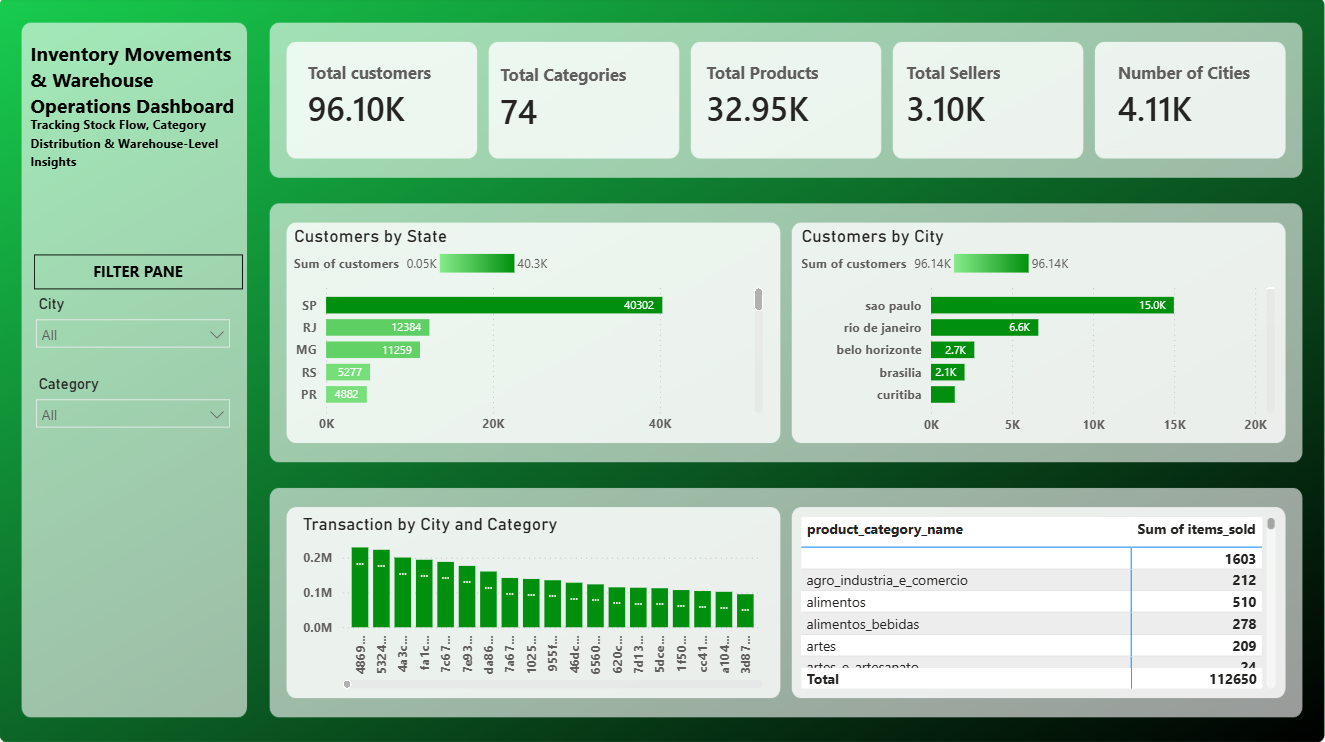

The page's visual inventory and layout, read from the dashboard file:
{"tool":"powerbi","page":{"name":"Page 2","canvas":[1280,720],"ordinal":1},"visuals":[{"type":"cardVisual","fields":{"Data":["Sum(vw_Number_customers.Number_customers)"]},"box":[269,37.4,209.8,114.1],"z":0},{"type":"cardVisual","fields":{"Data":["Sum(vw_productsbycategory.product_count)"]},"box":[653.9,37.4,209.8,114.1],"z":1000},{"type":"cardVisual","fields":{"Data":["Sum(vw_sellersbystate.sellers)"]},"box":[846.9,37.4,209.8,114.1],"z":2000},{"type":"cardVisual","fields":{"Data":["vw_cityssales.count city"]},"box":[1050.8,37.4,209.8,114.1],"z":3000},{"type":"cardVisual","fields":{"Data":["vw_itemssoldbycategory.N of Categ"]},"box":[454.8,39.8,209.8,114.1],"z":4000},{"type":"clusteredBarChart","title":"Customers by State","fields":{"Category":["vw_customersbystate.customer_state"],"Y":["Sum(vw_customersbystate.customers)"]},"box":[279.8,220.9,462.6,209.8],"z":5000},{"type":"clusteredBarChart","title":"Customers by City","fields":{"Category":["vw_customersbycity.customer_city"],"Y":["Sum(vw_customersbycity.customers)"]},"box":[769.7,220.8,466.9,209.9],"z":6000},{"type":"clusteredColumnChart","title":"Transaction by City and Category","fields":{"Category":["vw_salesbyseller.seller_id"],"Y":["Sum(vw_salesbyseller.total_sales)"]},"box":[288.3,498.2,454,174.2],"z":7000},{"type":"pivotTable","title":"Inventory Movement Vs WareHouse Activity","fields":{"Rows":["vw_itemssoldbycategory.product_category_name"],"Values":["Sum(vw_itemssoldbycategory.items_sold)"]},"box":[769.7,497.5,467.5,175.3],"z":8000},{"type":"textbox","box":[25,37.5,220,92.5],"z":9000},{"type":"textbox","box":[25,108.8,220,92.5],"z":10000},{"type":"slicer","fields":{"Values":["vw_cityssales.customer_city"]},"box":[25,282.5,207.5,87.5],"z":11000},{"type":"slicer","fields":{"Values":["vw_productsbycategory.product_category_name"]},"box":[25,360,207.5,87.5],"z":12000},{"type":"textbox","box":[33.8,248.8,201.2,33.8],"z":13000}]}

Visuals, with their boxes in screenshot pixels (x1, y1, x2, y2), scaled from the page's 1280x720 canvas onto the 1325x742 screenshot:
cardVisual - Sum(vw_Number_customers.Number_customers): detection(278, 39, 496, 156)
cardVisual - Sum(vw_productsbycategory.product_count): detection(677, 39, 894, 156)
cardVisual - Sum(vw_sellersbystate.sellers): detection(877, 39, 1094, 156)
cardVisual - vw_cityssales.count city: detection(1088, 39, 1305, 156)
cardVisual - vw_itemssoldbycategory.N of Categ: detection(471, 41, 688, 159)
"Customers by State" clusteredBarChart: detection(290, 228, 769, 444)
"Customers by City" clusteredBarChart: detection(797, 228, 1280, 444)
"Transaction by City and Category" clusteredColumnChart: detection(298, 513, 768, 693)
"Inventory Movement Vs WareHouse Activity" pivotTable: detection(797, 513, 1281, 693)
textbox: detection(26, 39, 254, 134)
textbox: detection(26, 112, 254, 207)
slicer - vw_cityssales.customer_city: detection(26, 291, 241, 381)
slicer - vw_productsbycategory.product_category_name: detection(26, 371, 241, 461)
textbox: detection(35, 256, 243, 291)
